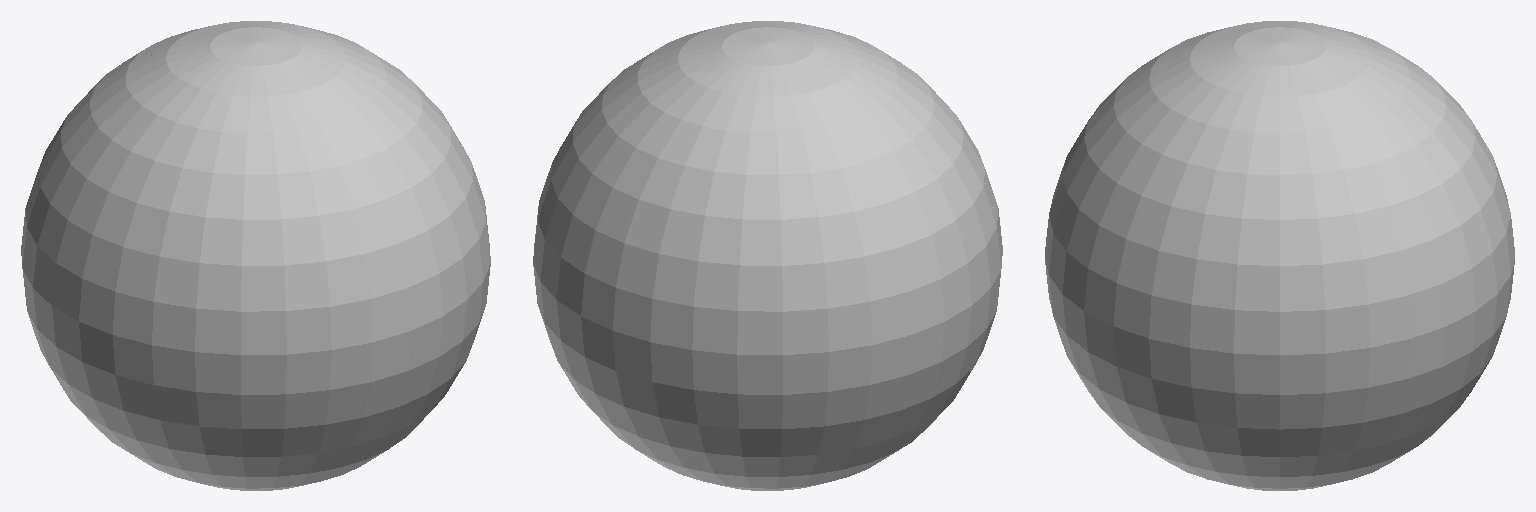
The model's file is balaxx.obj.
3 views of the same model, side by side, from view 1: azimuth 30°, elevation 25°; view 2: azimuth 150°, elevation 25°; view 3: azimuth 270°, elevation 25° (orthographic).
Parts seen in each view (by area): view 1: Sphere; view 2: Sphere; view 3: Sphere.
Part boxes in pixels (x1,y1,x2,y2): Sphere: (21,21,490,490); Sphere: (533,21,1002,490); Sphere: (1045,21,1514,490).
Bounding box in the file's own units: 0.2 × 0.2 × 0.2.